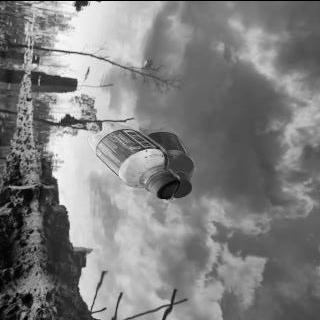bottle: (85, 118, 182, 200)
